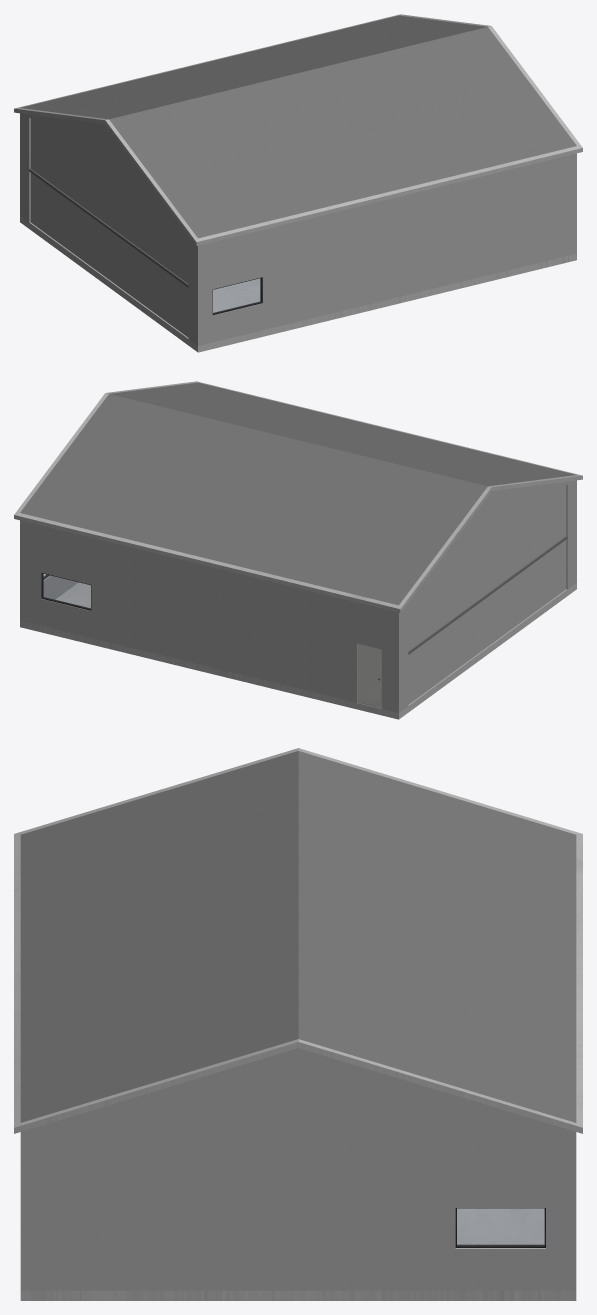
The model's file is gen_open_hangar06_shut-12x15x4-cbj_LOD01.gltf.
3 renders of one model, top to bottom at view 1: azimuth 30°, elevation 25°; view 2: azimuth 150°, elevation 25°; view 3: azimuth 270°, elevation 25°, orthographic. The views are drawn at different scales.
Visible parts, largest first — view 1: Cube.026; view 2: Cube.026; view 3: Cube.026.
Boxes of the visible parts, x1,y1,x2,y2 form: Cube.026: (14, 14, 582, 352); Cube.026: (14, 381, 582, 719); Cube.026: (14, 748, 582, 1300).
Bounding box in the file's own units: 15.4 × 6.4 × 12.6.
